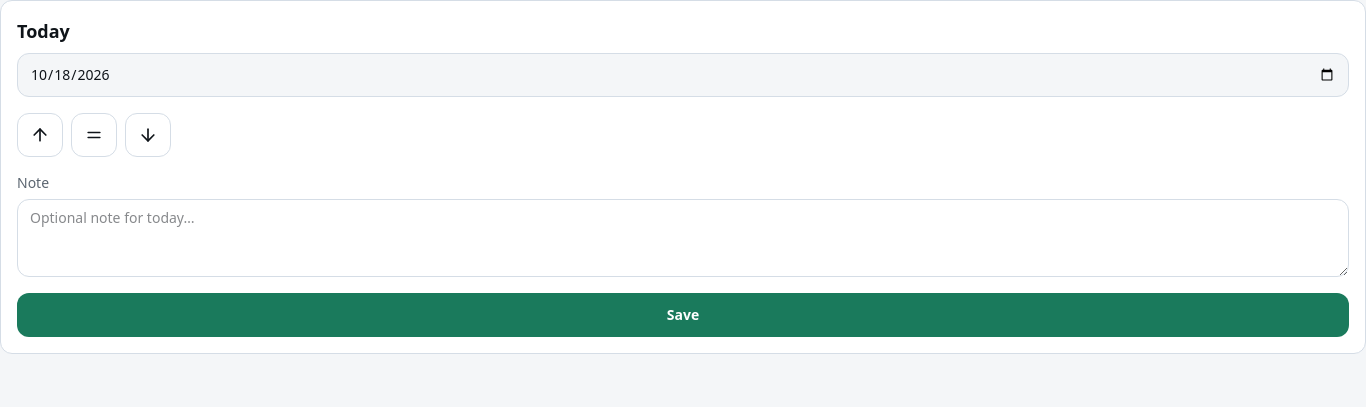
Test case: DayEntryPanel › saves a first rating for the day via Save
Click the button named "Up".
click(40, 135)  # box left=17, top=113, right=63, bottom=157
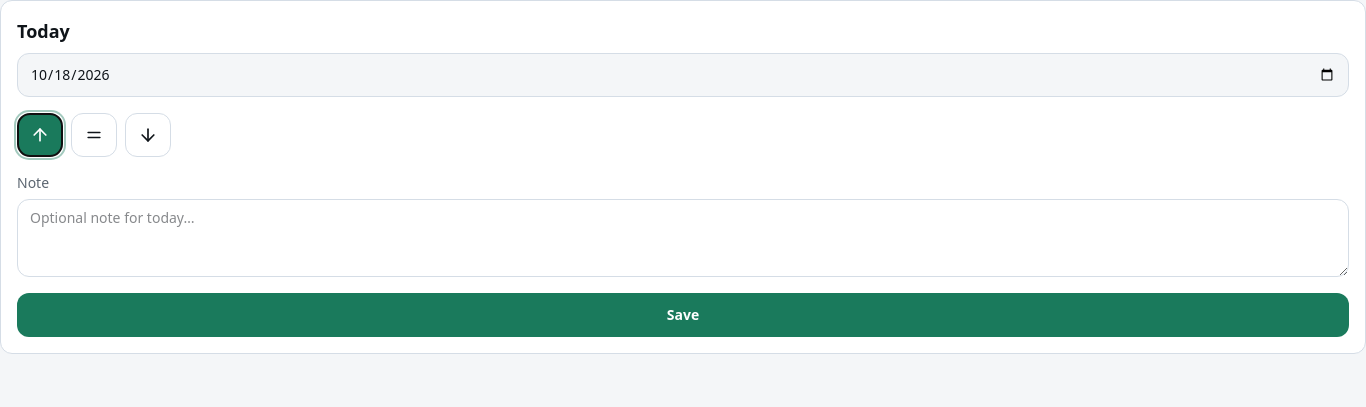
Click the button "Save".
click(683, 315)  # box left=17, top=293, right=1349, bottom=337
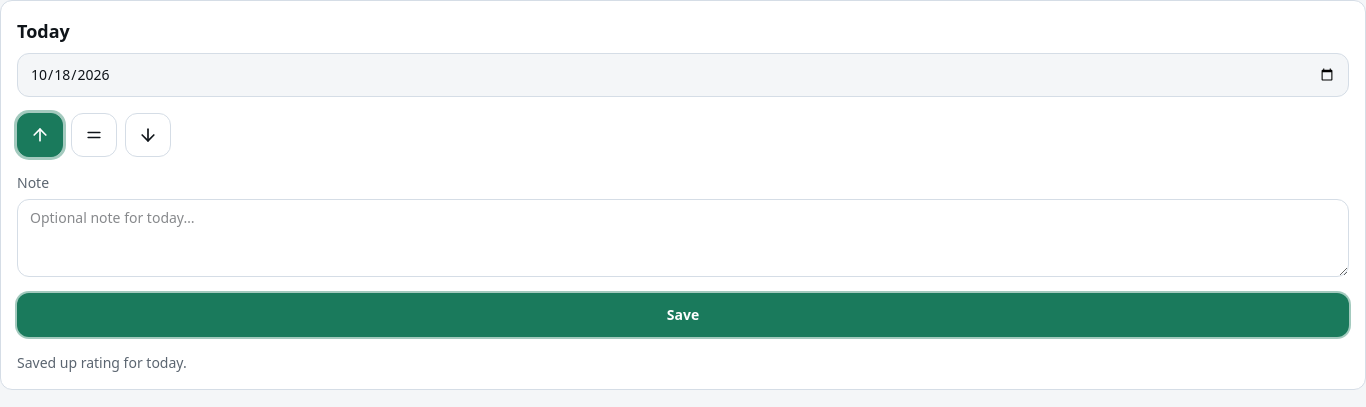
Expected: the message shows "Saved up rating", left=17, top=353, right=187, bottom=372
